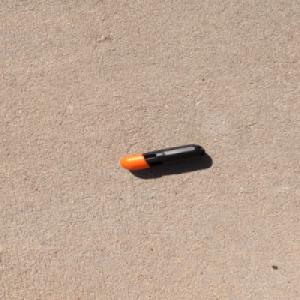PlasticPart: (117, 143, 205, 170)
